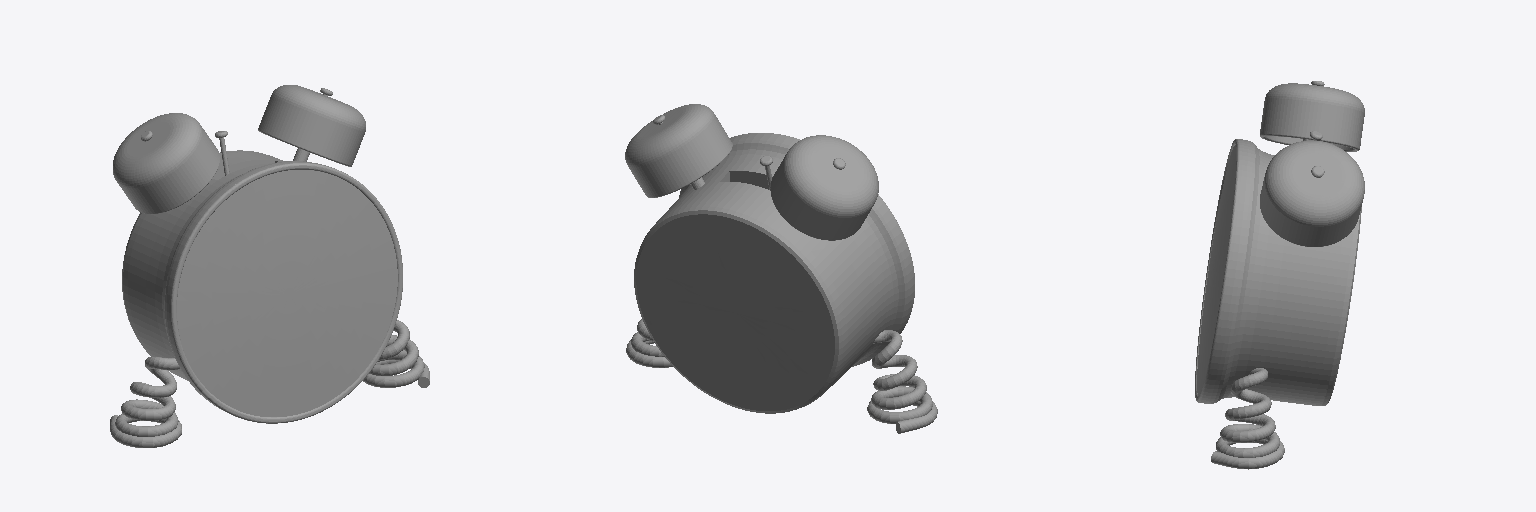
The picture shows the model from 3 angles: view 1: azimuth 30°, elevation 25°; view 2: azimuth 150°, elevation 25°; view 3: azimuth 270°, elevation 25°; orthographic projection.
Visible parts, largest first — view 1: Group_005, Hyper1_001, Group_006, Group_008, HyperNURBS_001, HyperNURBS_002; view 2: Hyper1_001, Group_006, Group_008, HyperNURBS_001, HyperNURBS_002; view 3: Hyper1_001, Group_008, Group_006, HyperNURBS_002, Group_005.
Part boxes in pixels (left/top/right/bottom): Group_005: left=177, top=170, right=397, bottom=416; Hyper1_001: left=122, top=150, right=402, bottom=423; Group_006: left=113, top=113, right=219, bottom=213; Group_008: left=258, top=85, right=365, bottom=166; HyperNURBS_001: left=110, top=357, right=181, bottom=447; HyperNURBS_002: left=363, top=320, right=429, bottom=387; Hyper1_001: left=634, top=133, right=914, bottom=413; Group_006: left=770, top=135, right=878, bottom=240; Group_008: left=625, top=104, right=732, bottom=197; HyperNURBS_001: left=867, top=330, right=937, bottom=433; HyperNURBS_002: left=626, top=319, right=672, bottom=367; Hyper1_001: left=1195, top=139, right=1361, bottom=405; Group_008: left=1260, top=140, right=1364, bottom=246; Group_006: left=1260, top=83, right=1364, bottom=151; HyperNURBS_002: left=1211, top=368, right=1284, bottom=469; Group_005: left=1197, top=145, right=1235, bottom=395.
Size of the model in its own units: 2.27 by 1.99 by 1.09.